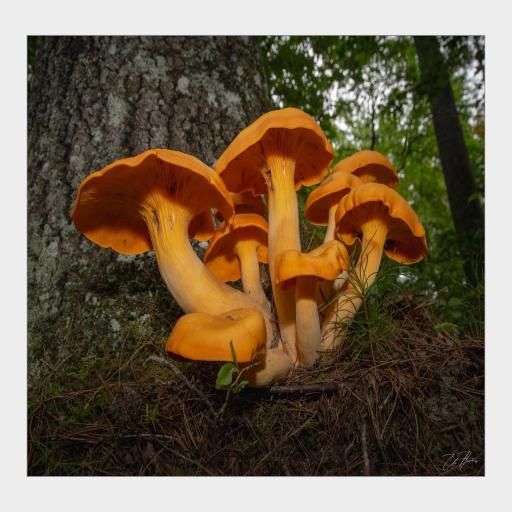Jack O Lantern Mushroom: (75, 148, 269, 322), (212, 102, 324, 365), (331, 182, 427, 304), (270, 235, 345, 379), (162, 293, 281, 371), (201, 210, 280, 311), (300, 167, 364, 225), (336, 136, 398, 189)
